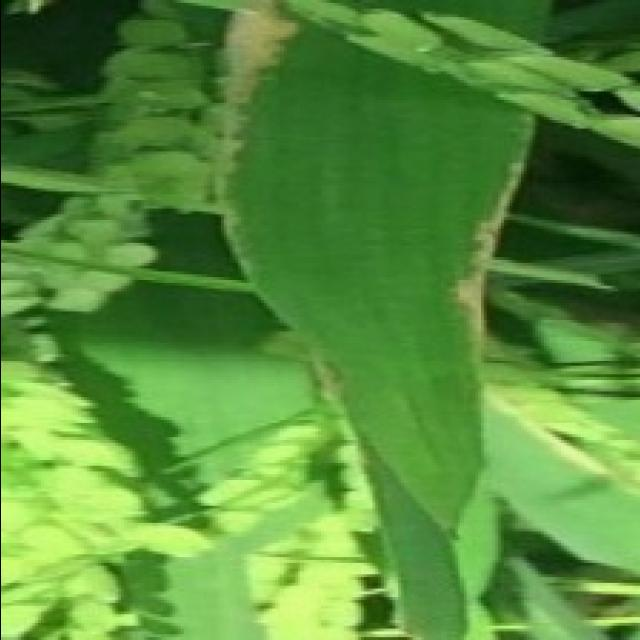Unhealthy: (203, 1, 301, 282), (445, 161, 525, 347)
